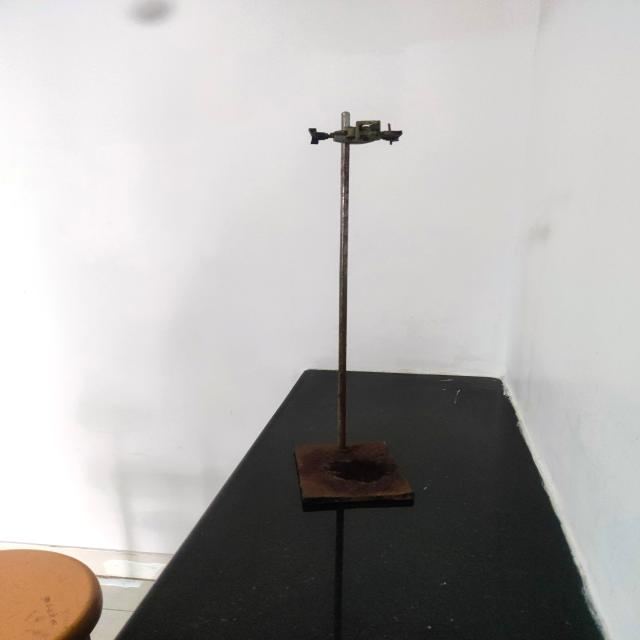Burette_Stands: (247, 86, 473, 532)
